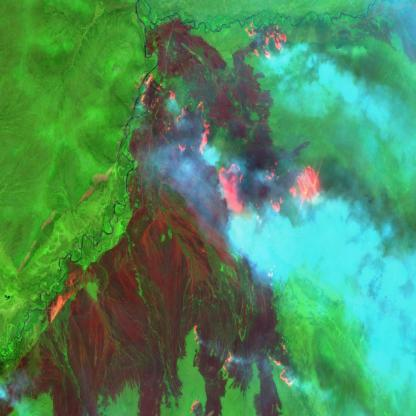fire: (142, 19, 339, 254)
